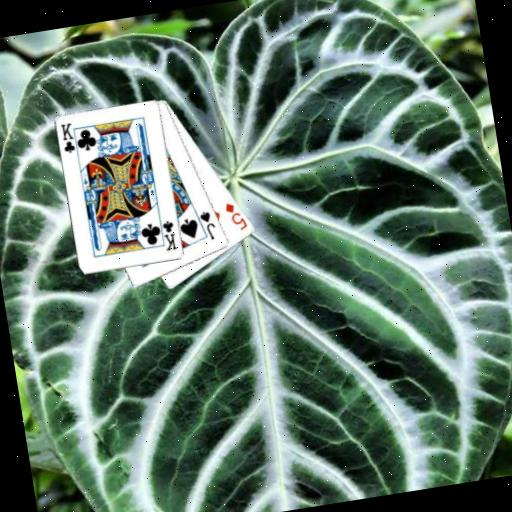5D: (221, 197, 249, 234)
JS: (195, 207, 219, 243)
KC: (155, 214, 179, 253), (57, 120, 81, 159)
